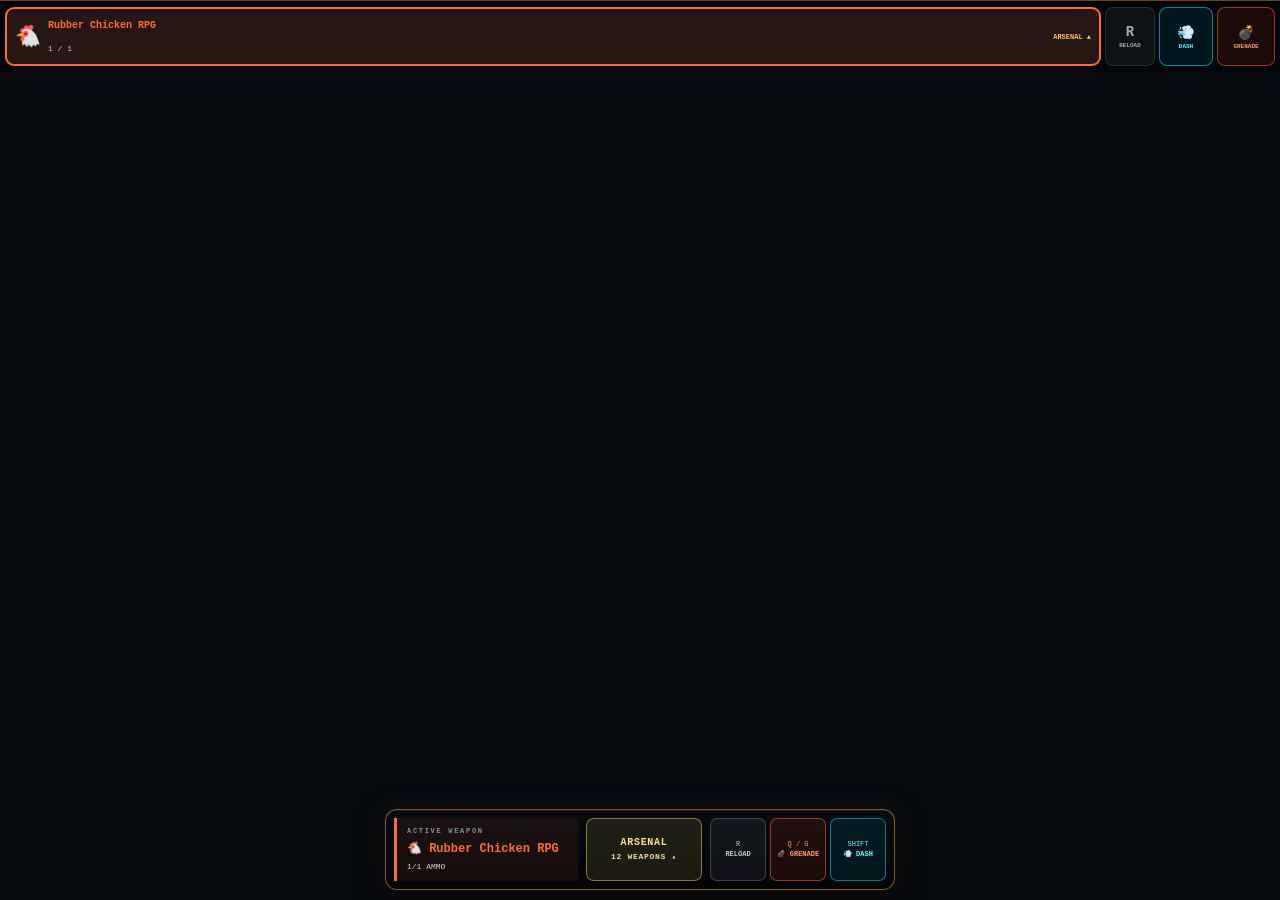
Test: WeaponDock › shows the same cursed capacity in desktop, mobile and arsenal labels
The width and height of the screenshot is (1280, 900).
Click the button "ARSENAL 12 WEAPONS ▴".
click(644, 849)  # box [586, 818, 702, 881]
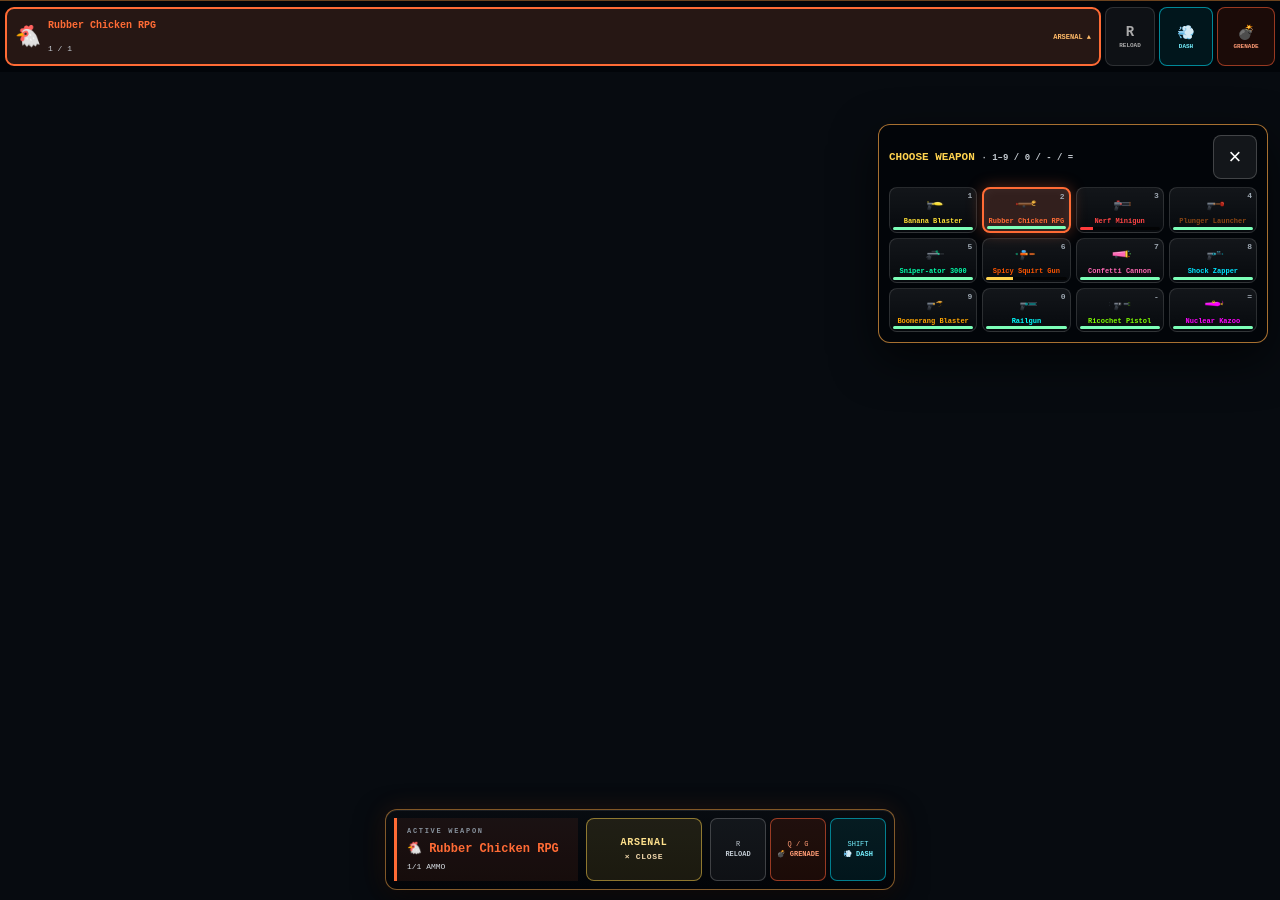
Expected: the button with aria-label "Equipped Rubber Chicken RPG, 1 of 1 ammo" is shown, [982, 187, 1071, 233]
Click the button with class "weapon-dock-mobile__active".
click(102, 26)  # box [5, 7, 1101, 66]
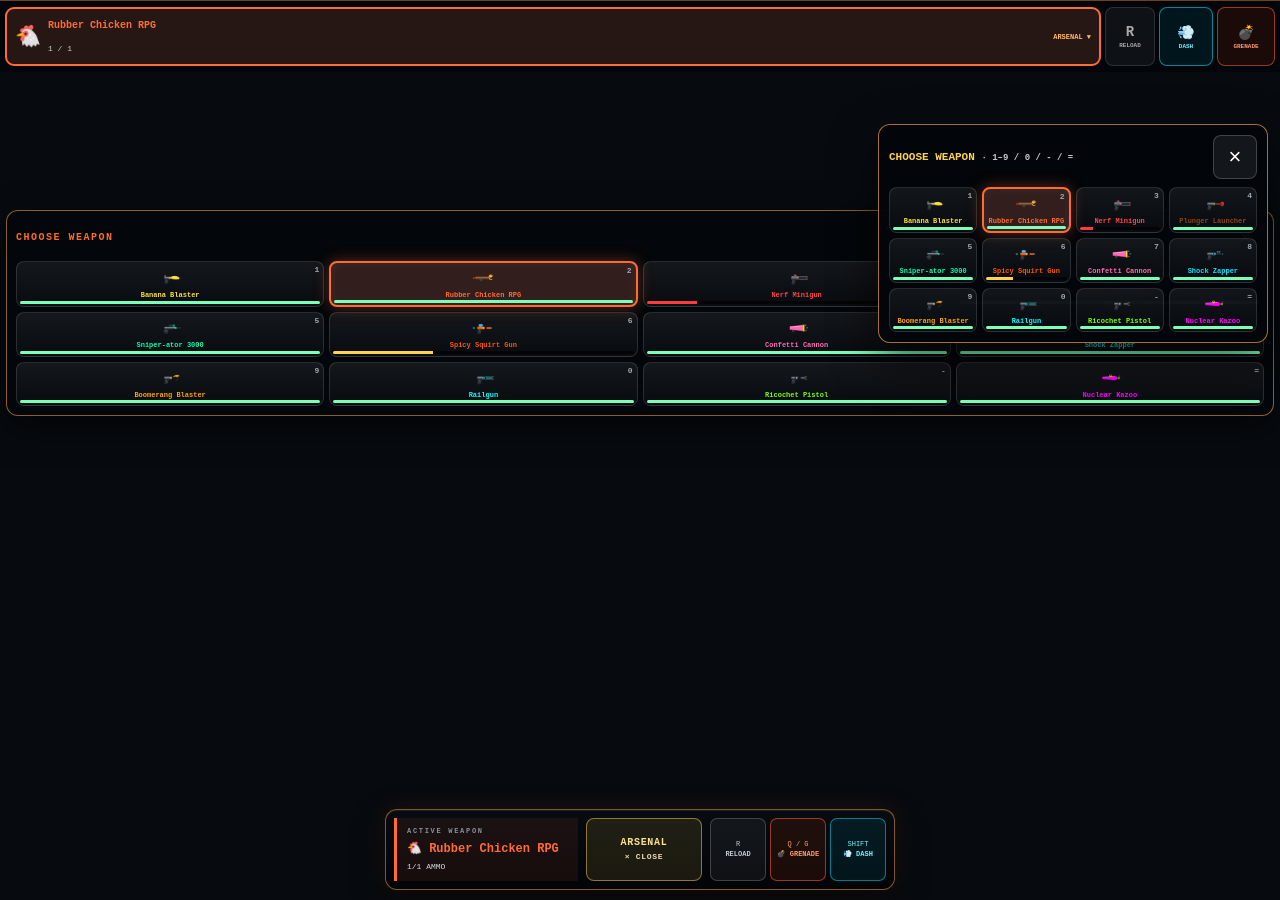
Expected: the button with aria-label "Equipped Rubber Chicken RPG, 1 of 1 ammo" is shown, [329, 261, 638, 307]
